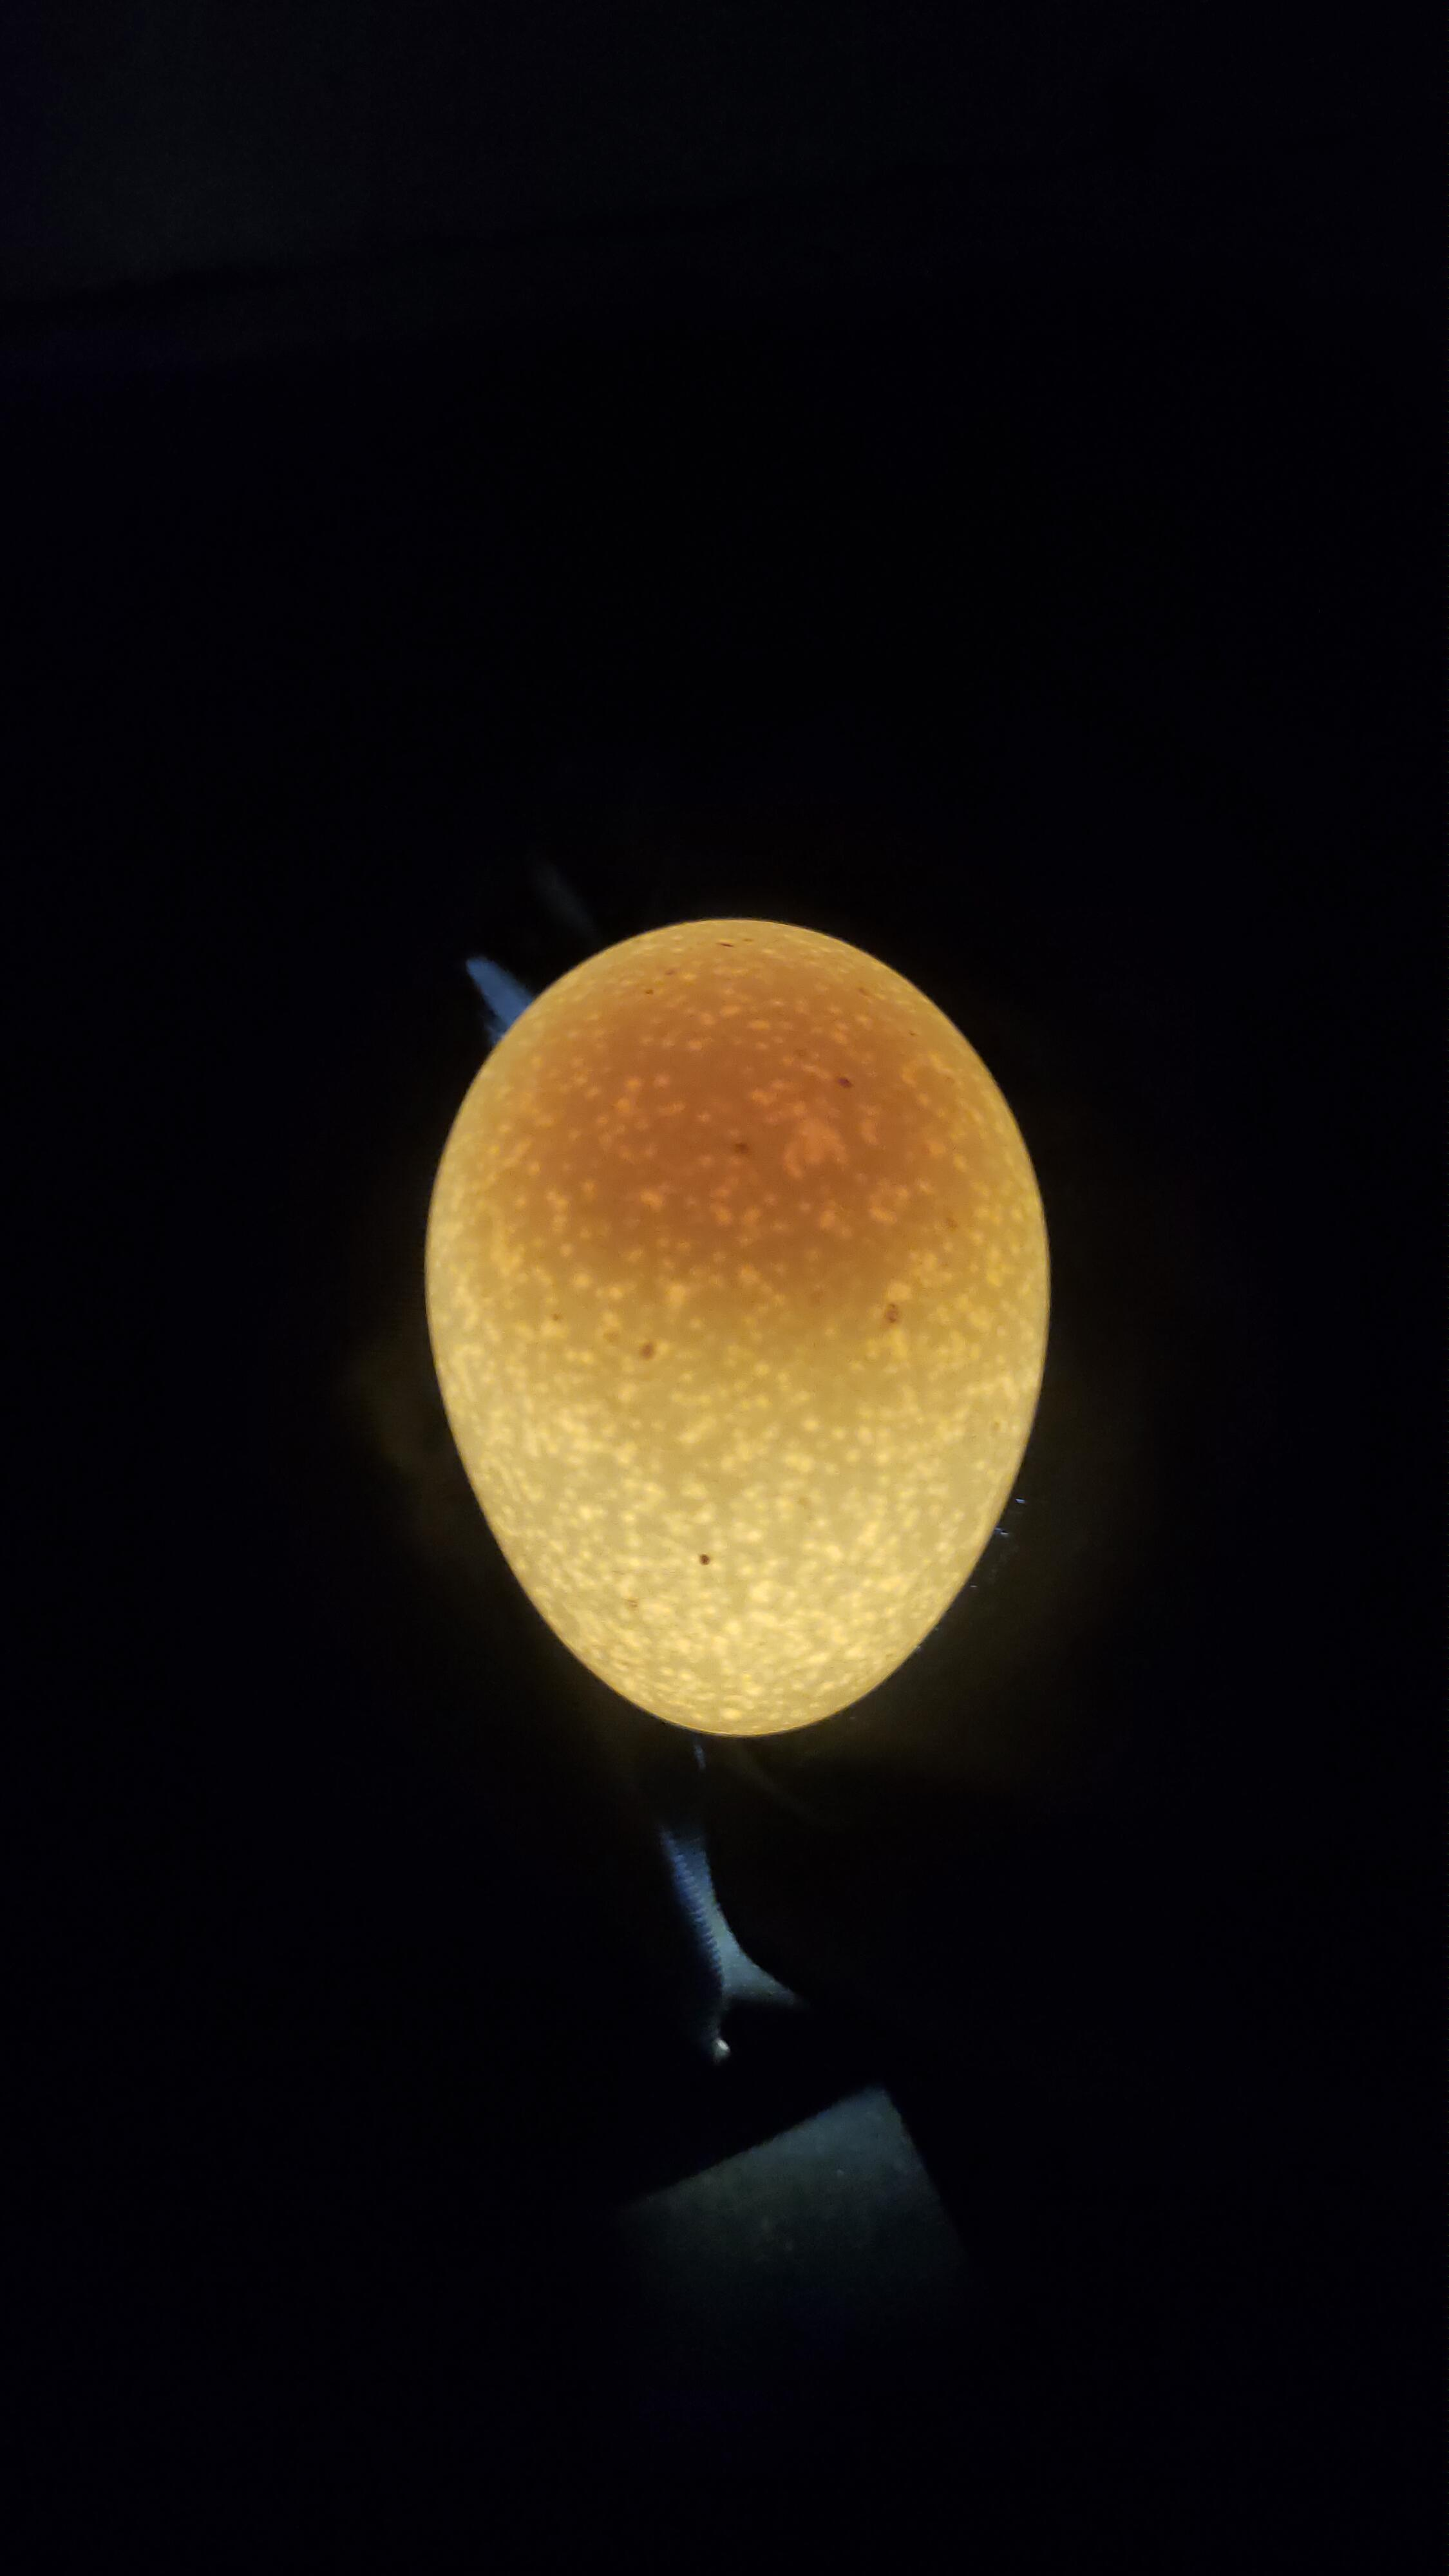Inedible: (386, 869, 1100, 1764)
